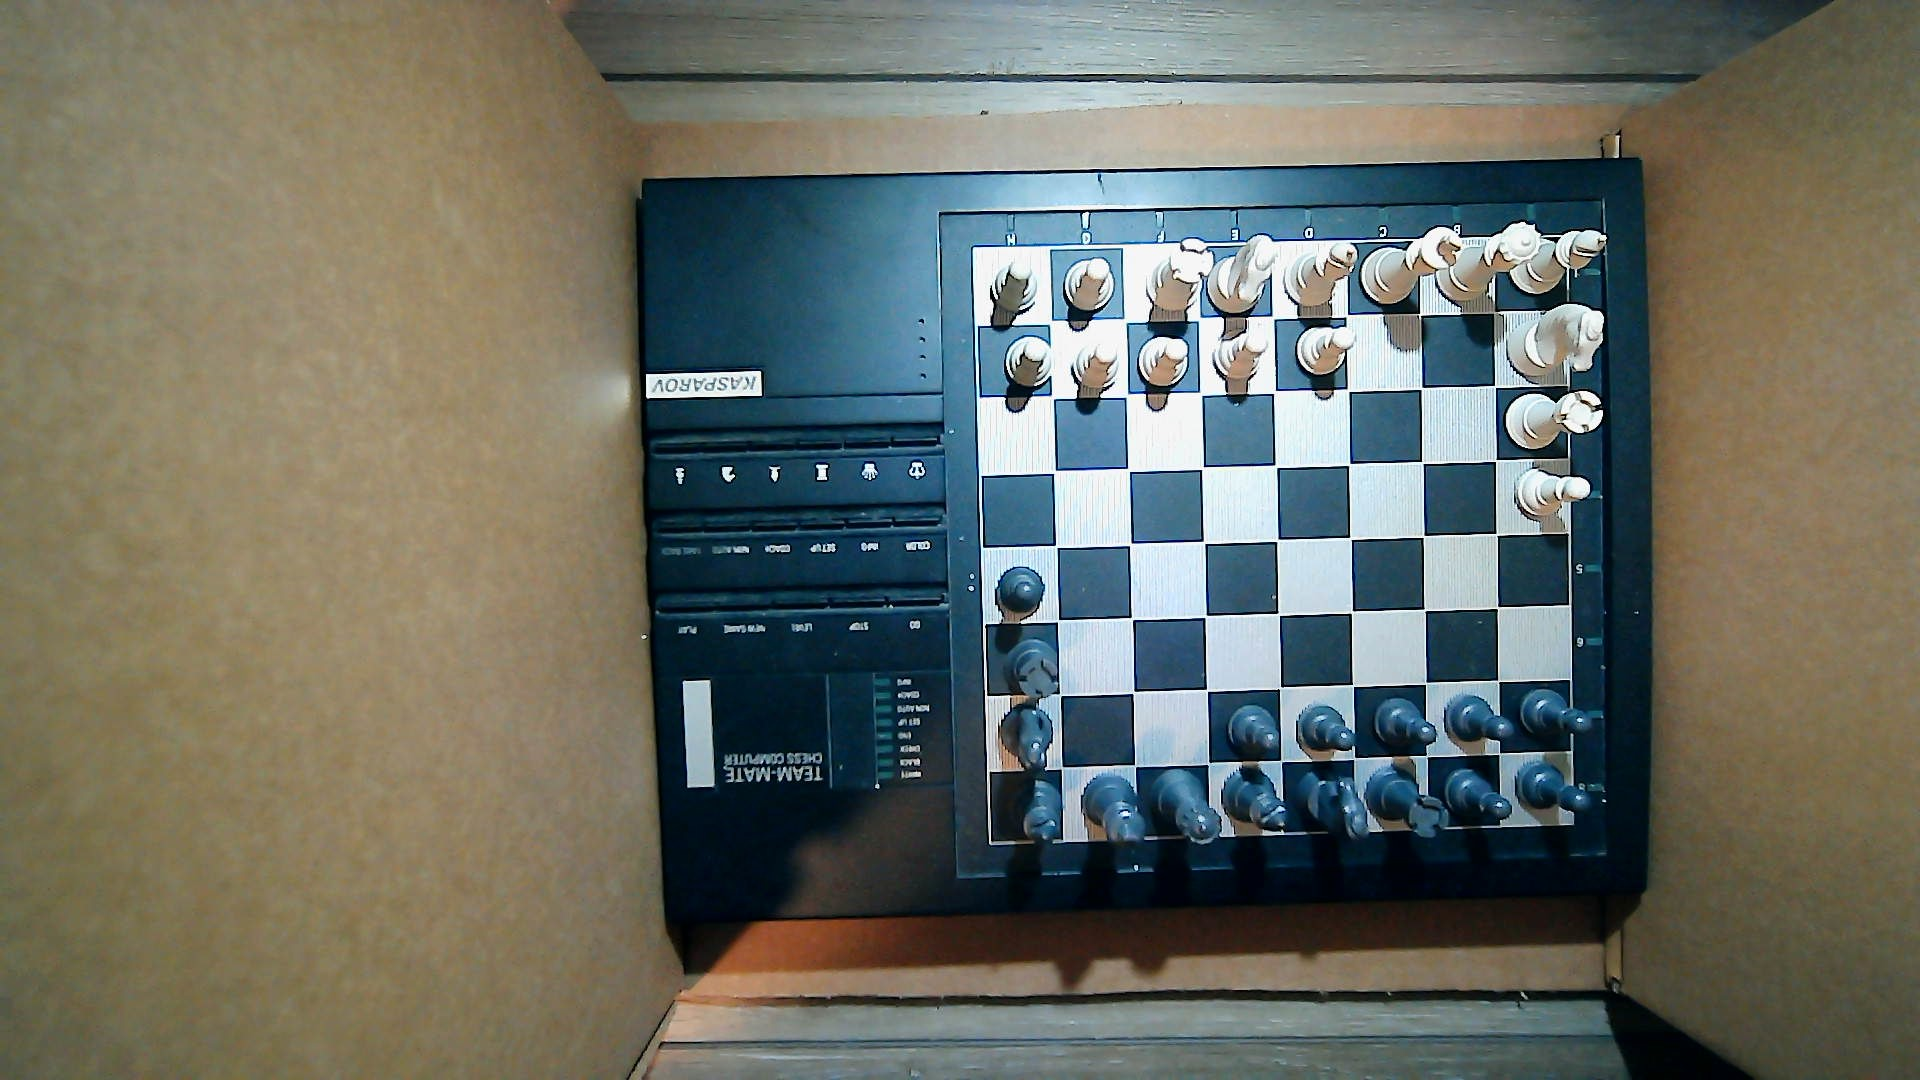bbishop: (1222, 767, 1288, 832), (1007, 781, 1065, 844), (998, 567, 1047, 615)
bking: (1081, 774, 1146, 847)
bknight: (1295, 771, 1367, 843), (1000, 705, 1056, 773)
bpawn: (1514, 761, 1590, 815), (1445, 766, 1513, 825), (1520, 688, 1592, 740), (1445, 694, 1515, 744), (1374, 698, 1437, 750), (1296, 704, 1356, 753), (1228, 704, 1280, 756)
bqueen: (1147, 769, 1222, 847)
brook: (1365, 769, 1451, 839), (1002, 640, 1060, 702)
wbishop: (1524, 229, 1606, 294), (1284, 243, 1358, 309)
wking: (1360, 225, 1464, 306)
wknight: (1507, 305, 1605, 378), (1207, 233, 1276, 315)
wpawn: (1515, 469, 1592, 520), (1296, 324, 1358, 376), (1212, 330, 1269, 382), (1064, 257, 1116, 311), (1004, 336, 1055, 389), (1138, 335, 1189, 386), (988, 261, 1039, 313), (1071, 342, 1122, 392)
wqueen: (1451, 220, 1542, 302)
wrook: (1502, 390, 1602, 450), (1147, 237, 1216, 313)
